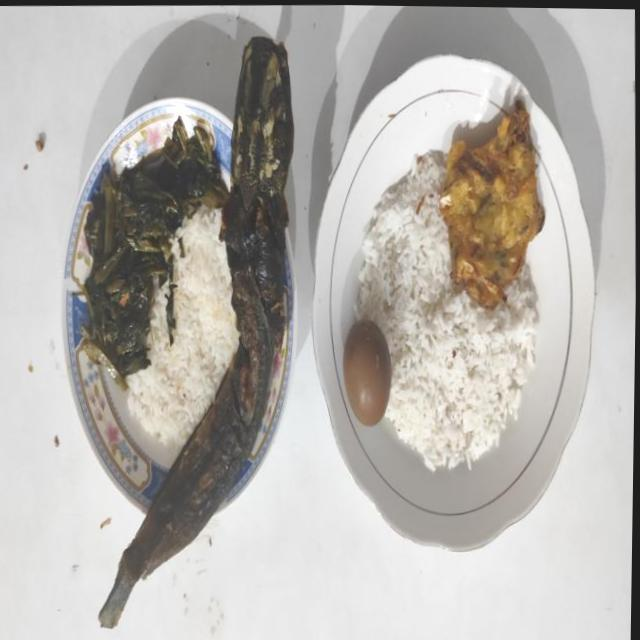nasi_putih: (356, 151, 536, 470), (125, 206, 238, 449)
tumis_kangkung: (80, 116, 230, 389)
